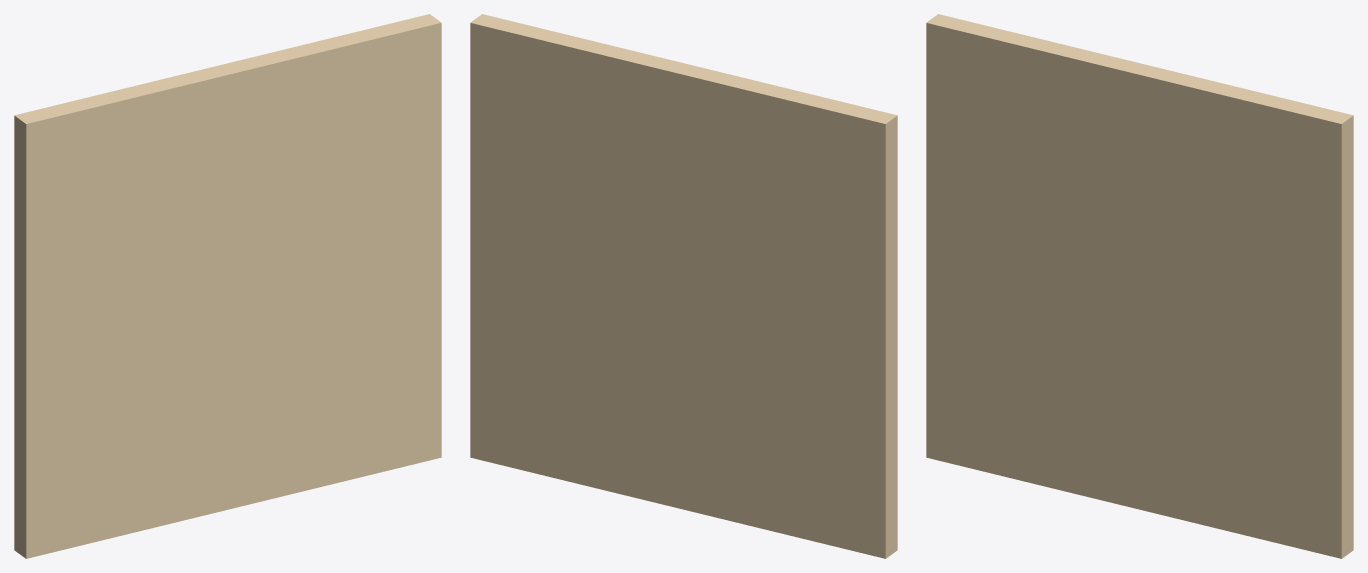
File: 2x2Wall_3DModel_1.fbx
3 views of the same model, side by side, from view 1: azimuth 30°, elevation 25°; view 2: azimuth 150°, elevation 25°; view 3: azimuth 330°, elevation 25° (orthographic).
Parts seen in each view (by area): view 1: 2X2 Wall, 2X2 Wall_cell.003, 2X2 Wall_cell.004, 2X2 Wall_cell.002, 2X2 Wall_cell.005, 2X2 Wall_cell.001, 2X2 Wall_cell; view 2: 2X2 Wall, 2X2 Wall_cell.001, 2X2 Wall_cell.003, 2X2 Wall_cell.005, 2X2 Wall_cell.004, 2X2 Wall_cell.002; view 3: 2X2 Wall, 2X2 Wall_cell.003, 2X2 Wall_cell.005, 2X2 Wall_cell.002, 2X2 Wall_cell.001, 2X2 Wall_cell.004, 2X2 Wall_cell.
Part boxes in pixels (x1=…): 2X2 Wall: x1=14, y1=23, x2=441, y2=558; 2X2 Wall_cell.003: x1=14, y1=187, x2=244, y2=439; 2X2 Wall_cell.004: x1=209, y1=14, x2=441, y2=303; 2X2 Wall_cell.002: x1=14, y1=333, x2=234, y2=546; 2X2 Wall_cell.005: x1=234, y1=271, x2=441, y2=506; 2X2 Wall_cell.001: x1=14, y1=63, x2=236, y2=209; 2X2 Wall_cell: x1=20, y1=496, x2=234, y2=555; 2X2 Wall: x1=470, y1=23, x2=897, y2=558; 2X2 Wall_cell.001: x1=674, y1=64, x2=897, y2=206; 2X2 Wall_cell.003: x1=665, y1=184, x2=897, y2=437; 2X2 Wall_cell.005: x1=470, y1=267, x2=678, y2=507; 2X2 Wall_cell.004: x1=470, y1=14, x2=698, y2=284; 2X2 Wall_cell.002: x1=682, y1=424, x2=897, y2=558; 2X2 Wall: x1=926, y1=23, x2=1353, y2=558; 2X2 Wall_cell.003: x1=926, y1=108, x2=1144, y2=338; 2X2 Wall_cell.005: x1=1134, y1=309, x2=1353, y2=558; 2X2 Wall_cell.002: x1=926, y1=333, x2=1134, y2=493; 2X2 Wall_cell.001: x1=926, y1=14, x2=1149, y2=170; 2X2 Wall_cell.004: x1=1108, y1=66, x2=1353, y2=369; 2X2 Wall_cell: x1=926, y1=421, x2=1134, y2=508.
Size of the model in its own units: 400 by 400 by 20.
